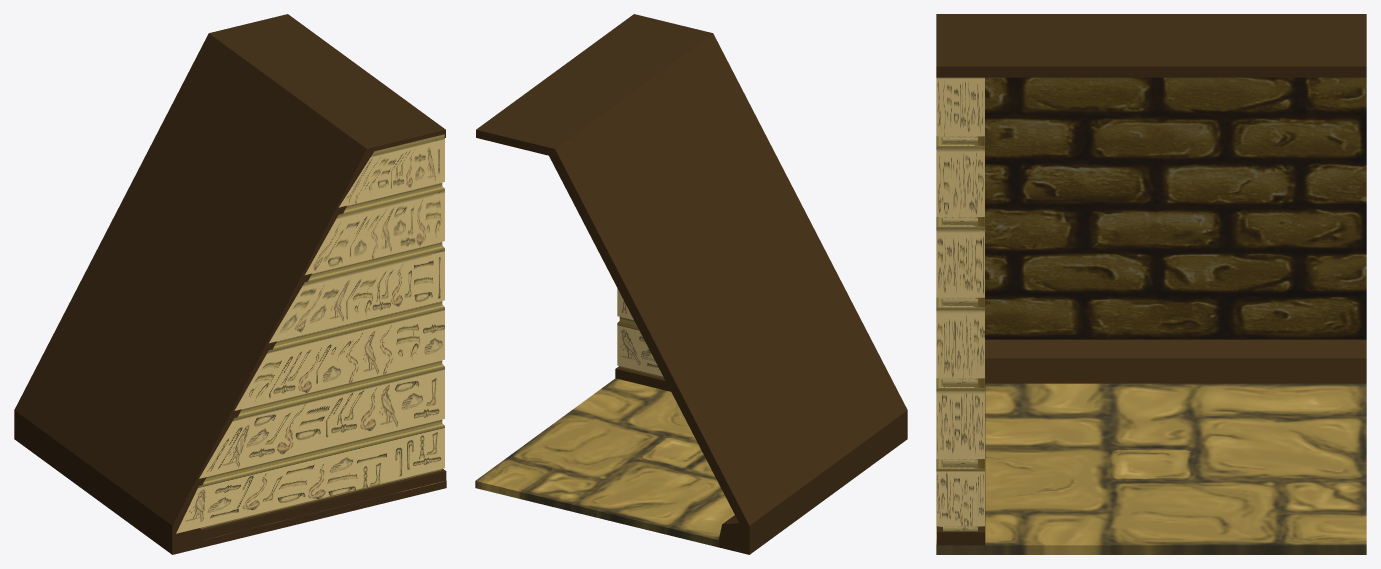
File: Wall4.FBX
The picture shows the model from 3 angles, left to right: view 1: azimuth 30°, elevation 25°; view 2: azimuth 150°, elevation 25°; view 3: azimuth 270°, elevation 25°; orthographic projection. The views are drawn at different scales.
Parts seen in each view (by area): view 1: Wall Wall003; view 2: Wall Wall003; view 3: Wall Wall003.
Part boxes in pixels (x1,y1,x2,y2): Wall Wall003: (14,14,446,554); Wall Wall003: (475,14,907,554); Wall Wall003: (936,14,1366,554).
Size of the model in its own units: 78.79 by 98.43 by 78.72.
